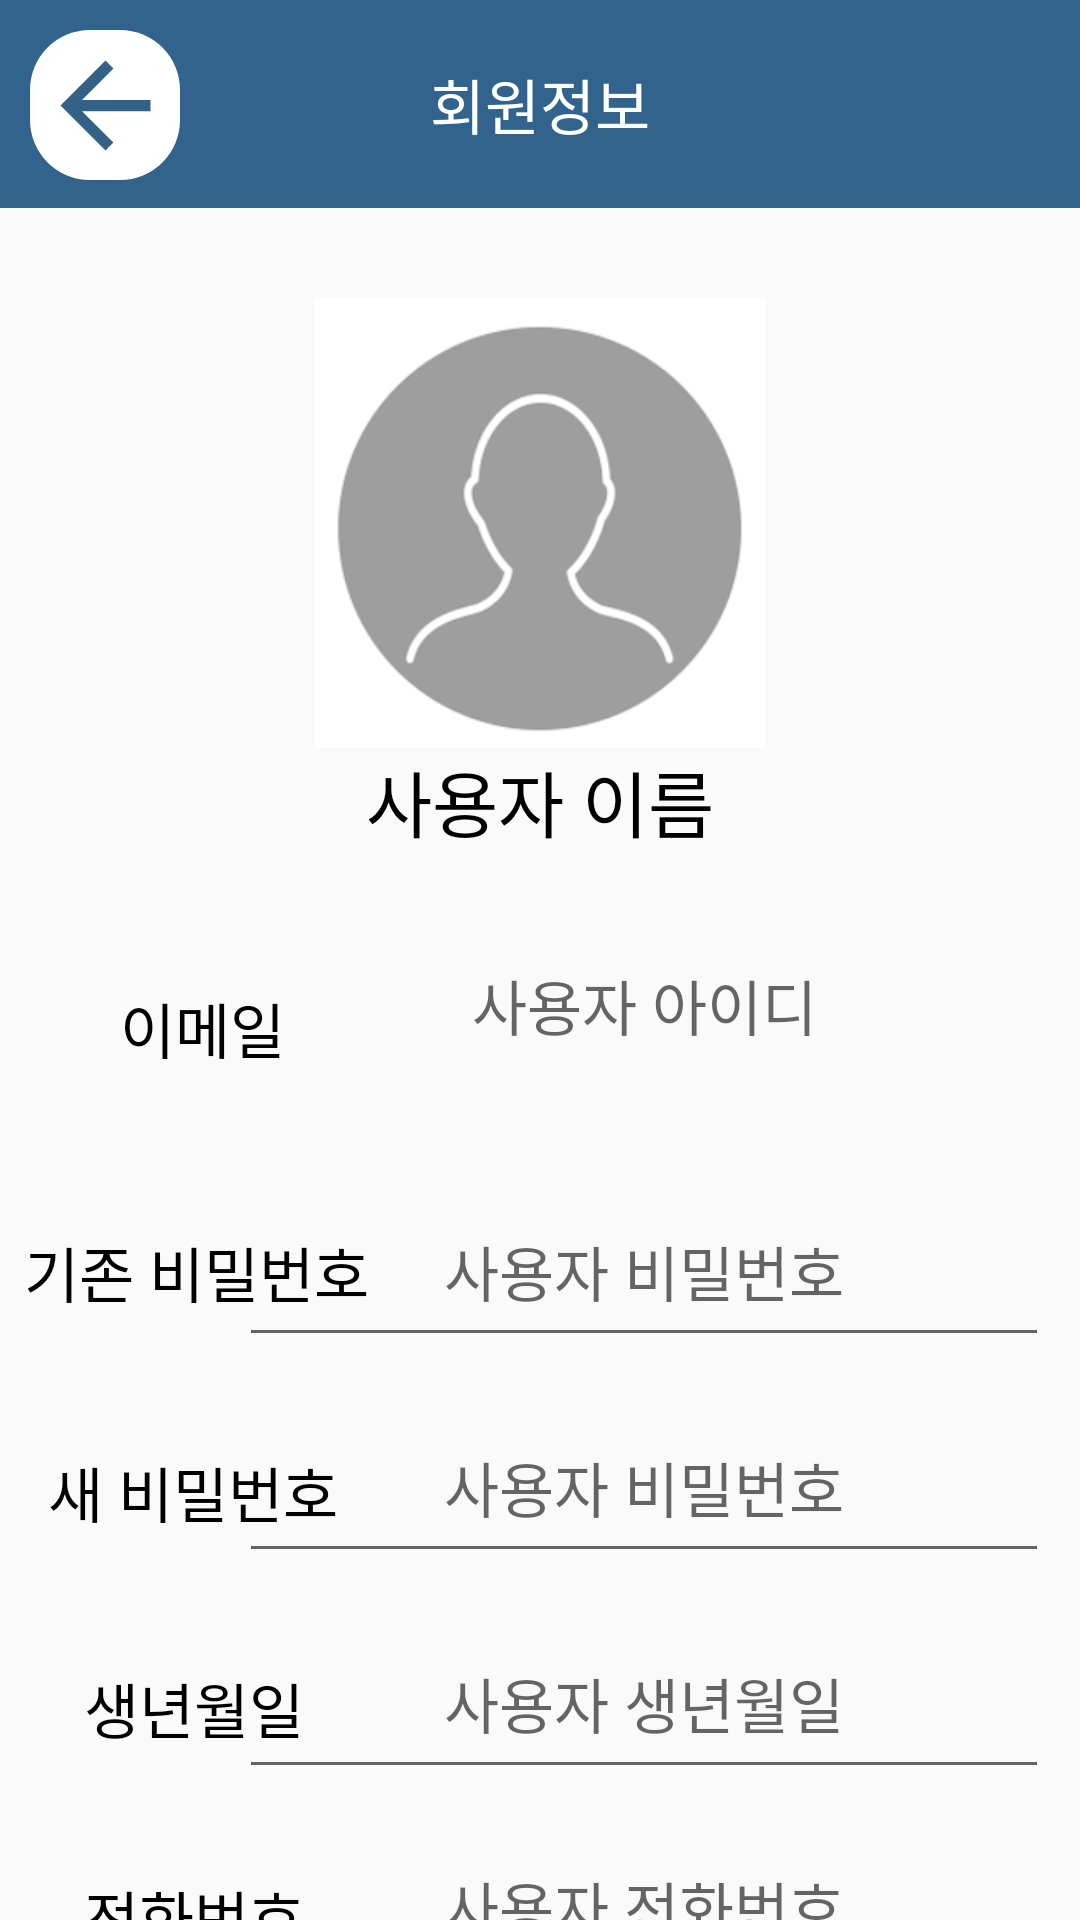

Icon click points for this 1080px×1920px phone screenshot, format point (x, y):
back: point (105, 105)
